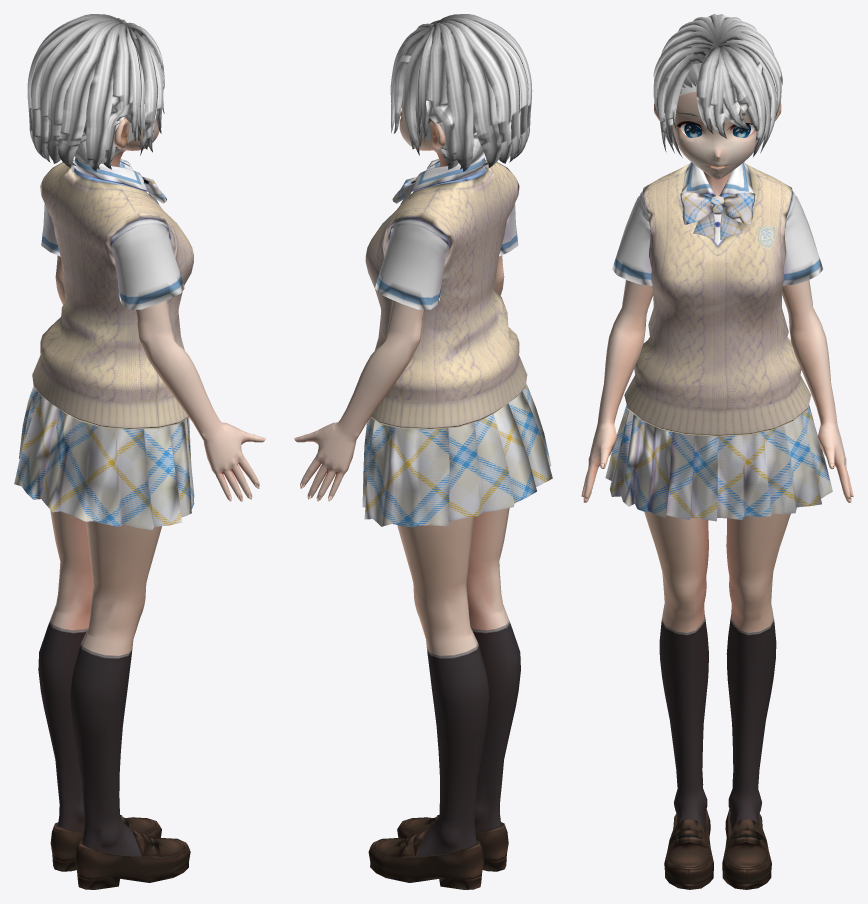
The model's file is galaxia_stoji.glb.
3 renders of one model, left to right at view 1: azimuth 30°, elevation 25°; view 2: azimuth 150°, elevation 25°; view 3: azimuth 270°, elevation 25°, orthographic. The views are drawn at different scales.
Bounding box in the file's own units: 0.3474 × 1.58 × 0.4665.
Materials: 12 (11 with a texture image).
